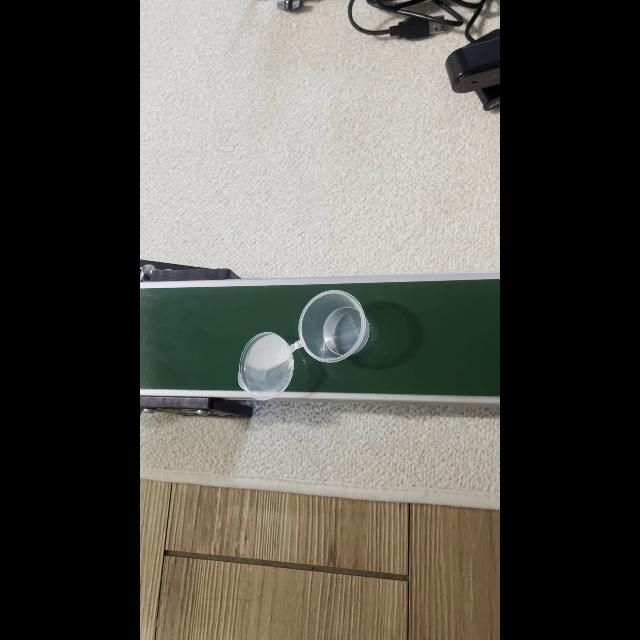clean: (300, 291, 364, 364), (238, 334, 290, 396)
